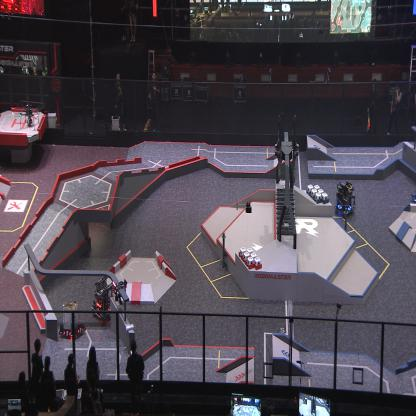car: (92, 272, 116, 320), (58, 301, 85, 339), (334, 180, 355, 215)
